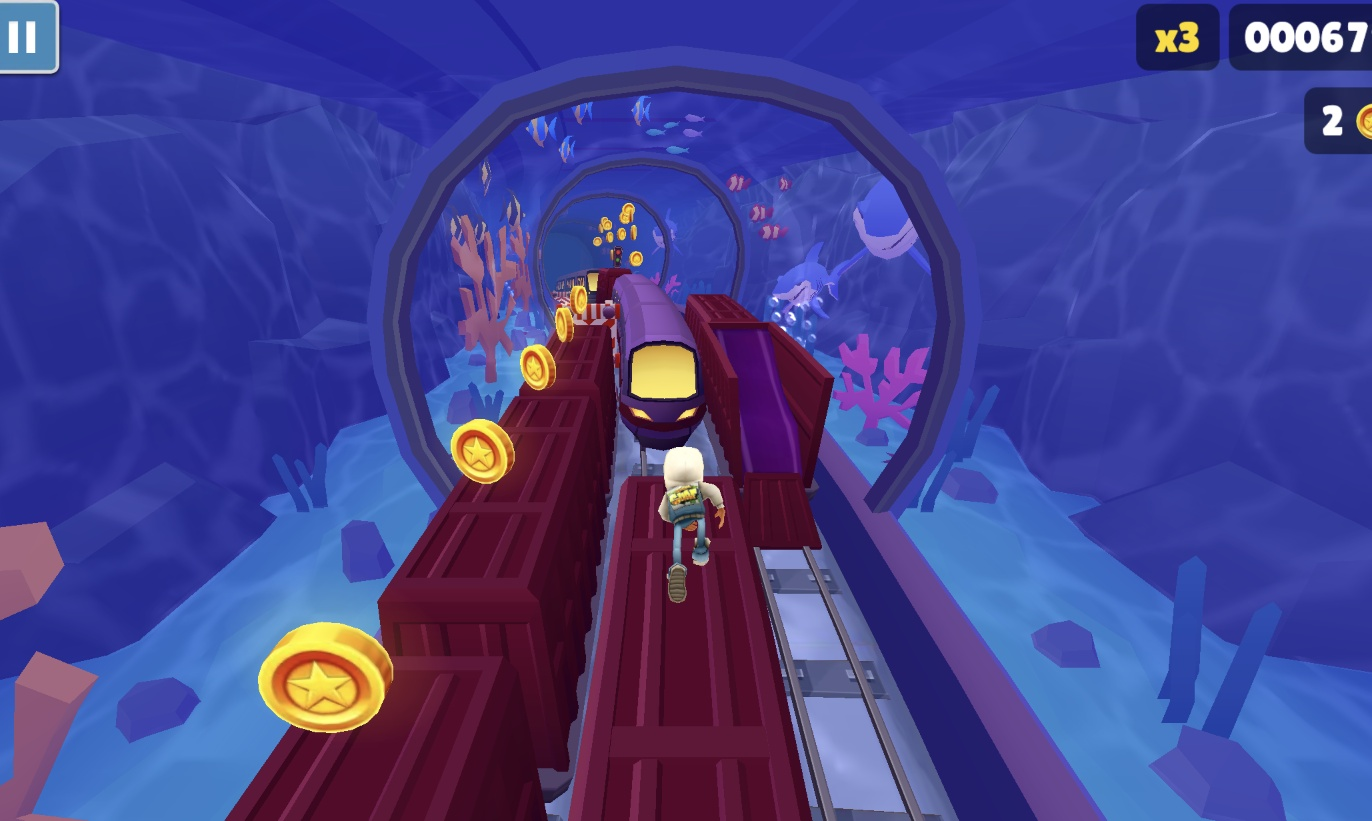overhead_barrier: (567, 307, 606, 362)
train: (225, 342, 617, 821), (566, 462, 815, 821), (686, 285, 836, 555), (606, 274, 707, 447), (547, 270, 620, 324)
